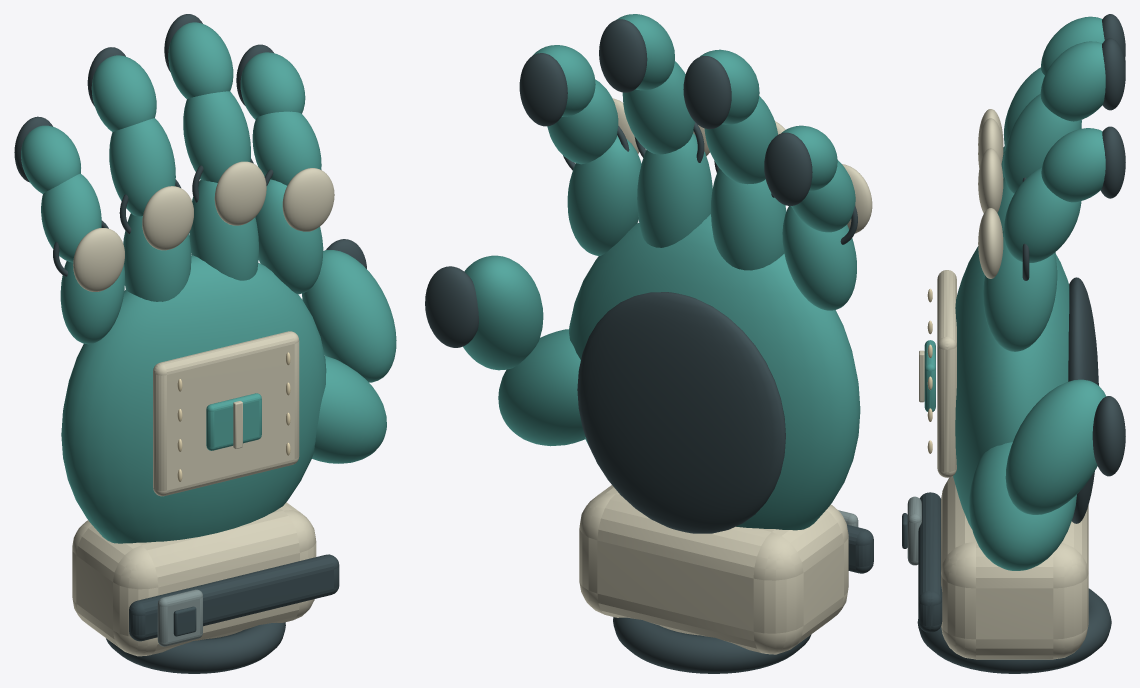
The model's file is glove_right.glb.
The picture shows the model from 3 angles, left to right: view 1: azimuth 30°, elevation 25°; view 2: azimuth 150°, elevation 25°; view 3: azimuth 270°, elevation 25°; orthographic projection. The views are drawn at different scales.
Parts seen in each view (by area): view 1: Seafoam glove, Warm cotton, Charcoal rubber, Brushed buckle; view 2: Seafoam glove, Charcoal rubber, Warm cotton; view 3: Seafoam glove, Warm cotton, Charcoal rubber, Brushed buckle, Cotton stitching.
Part boxes in pixels (x1,y1,x2,y2): Seafoam glove: (21,22,396,543); Warm cotton: (72,161,334,656); Charcoal rubber: (14,14,366,673); Brushed buckle: (157,589,202,646); Seafoam glove: (463,14,860,530); Charcoal rubber: (425,19,873,673); Warm cotton: (579,98,872,654); Seafoam glove: (924,16,1106,570); Warm cotton: (919,109,1088,659); Charcoal rubber: (902,14,1125,673); Brushed buckle: (907,496,921,565); Cotton stitching: (927,288,932,453).
Bounding box in the file's own units: 0.3075 × 0.485 × 0.159.
